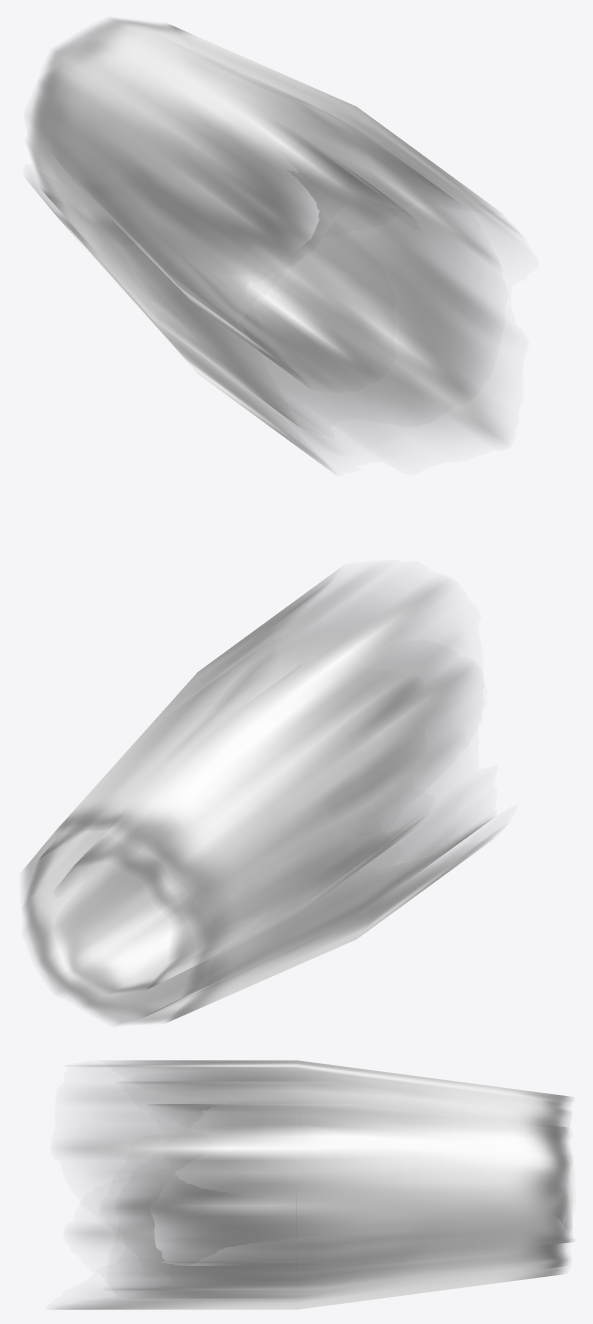
Rendered from si_eos_3400.glb.
3 renders of one model, top to bottom at view 1: azimuth 30°, elevation 25°; view 2: azimuth 150°, elevation 25°; view 3: azimuth 270°, elevation 25°, orthographic. The views are drawn at different scales.
Visible parts, largest first — view 1: layer_00_si_est_0501; view 2: layer_00_si_est_0501; view 3: layer_00_si_est_0501.
Part boxes in pixels (box(x1,y1,x2,y2)): layer_00_si_est_0501: box(29, 19, 515, 468); layer_00_si_est_0501: box(23, 572, 499, 1024); layer_00_si_est_0501: box(56, 1060, 572, 1309).
Size of the model in its own units: 85.6 by 90 by 200.
Materials: 1 (1 with a texture image).
